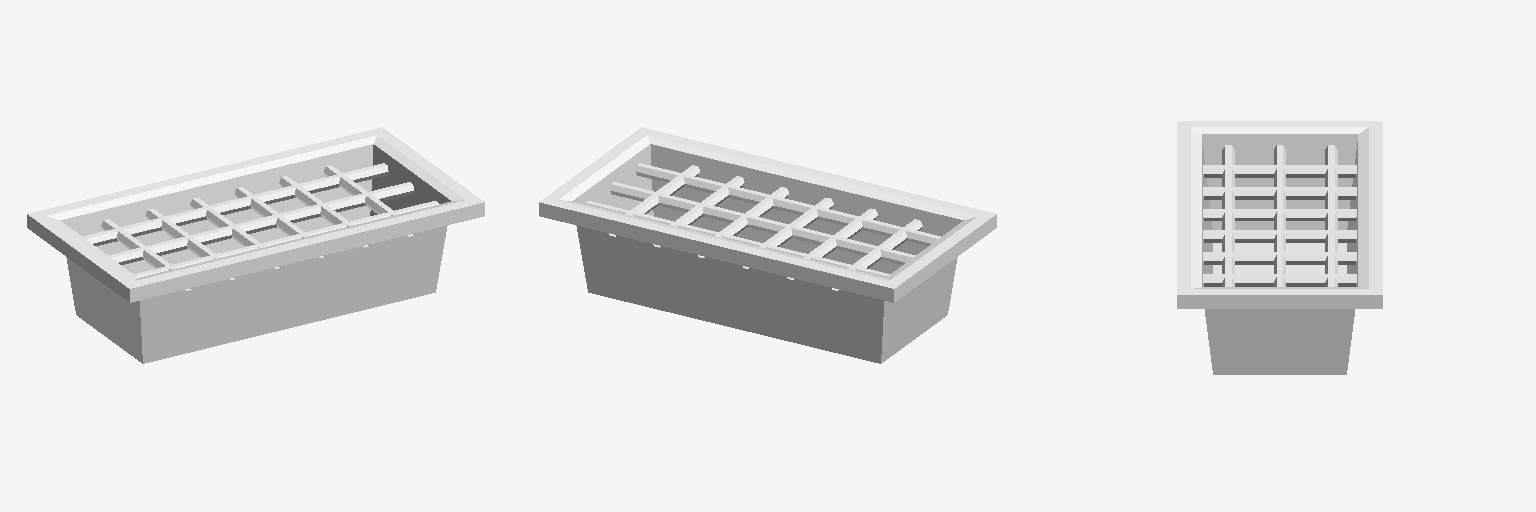
File: floor_tile_grate.obj
3 views of the same model, side by side, from view 1: azimuth 30°, elevation 25°; view 2: azimuth 150°, elevation 25°; view 3: azimuth 270°, elevation 25° (orthographic).
Visible parts, largest first — view 1: floor_tile_grate_Plane.054; view 2: floor_tile_grate_Plane.054; view 3: floor_tile_grate_Plane.054.
Part boxes in pixels (x1,y1,x2,y2): floor_tile_grate_Plane.054: (27, 127, 484, 363); floor_tile_grate_Plane.054: (539, 127, 996, 363); floor_tile_grate_Plane.054: (1177, 121, 1382, 374).
Size of the model in its own units: 4 by 1.03 by 2.